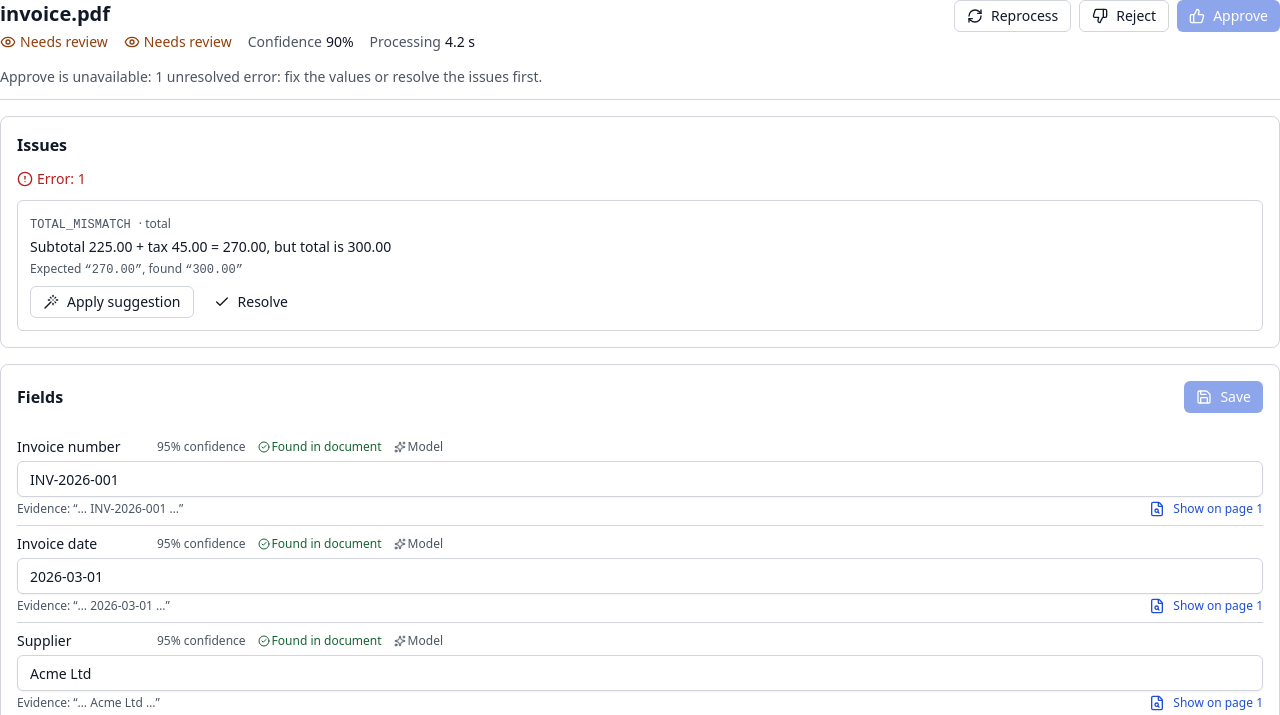
Scenario: fields form › 422 shows the server's errors inline
Replace the text in the field labelled "Invoice date" with "2026-03-04" at x=640, y=576, box [17,558,1263,594]
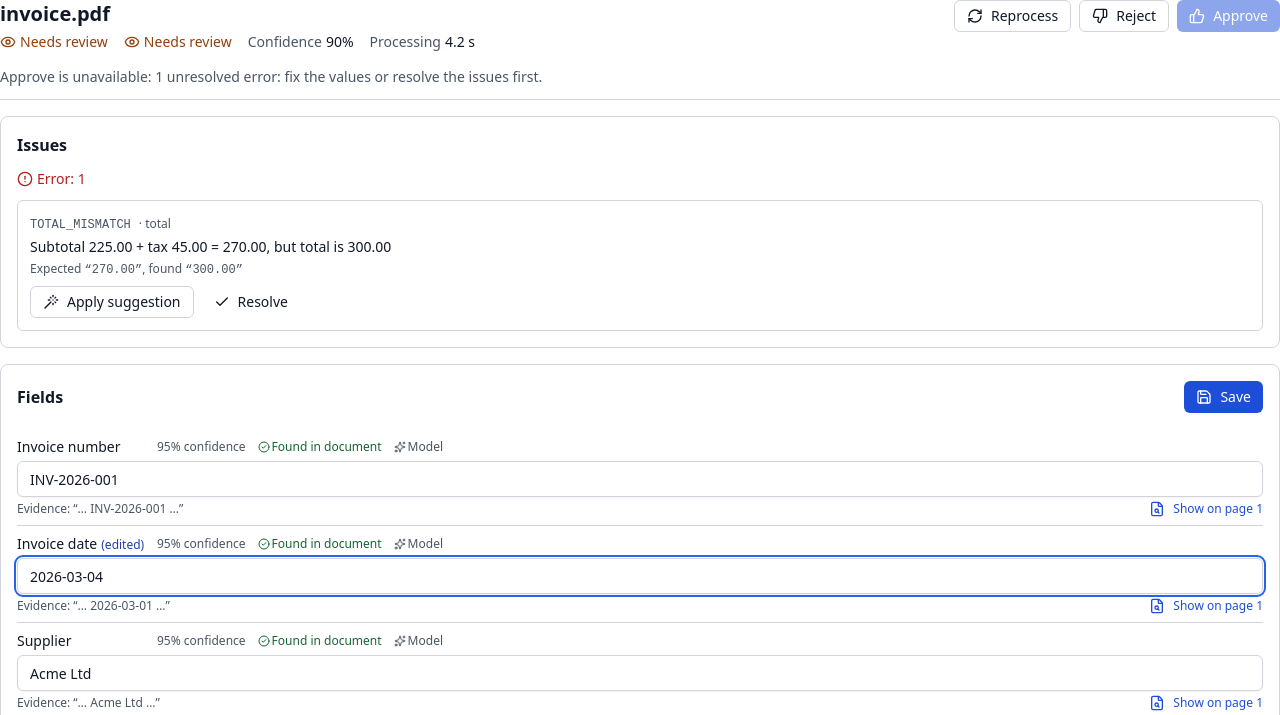
Click the button "Save" at x=1224, y=397, box [1184,381,1263,413]
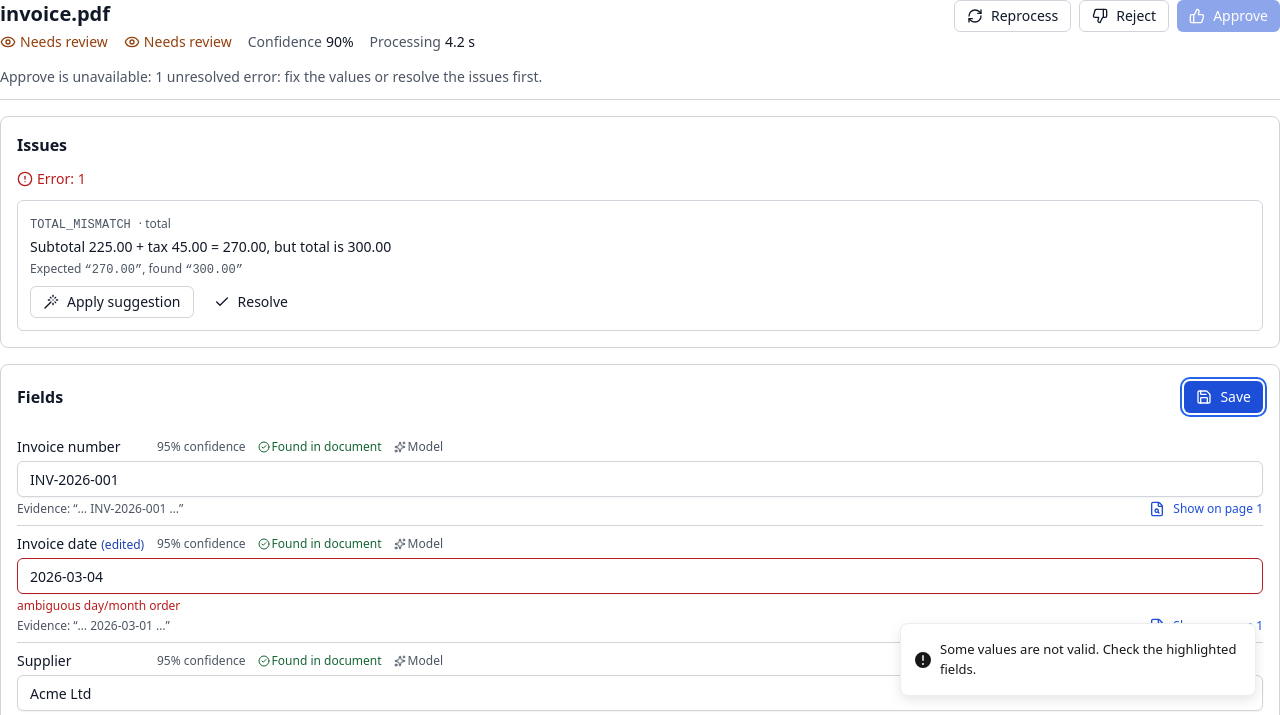
expect the text "ambiguous day/month order" is shown: met, box [17,597,180,614]
